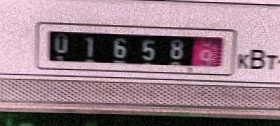0: (51, 32, 69, 53)
1: (81, 33, 96, 58)
5: (139, 37, 156, 61)
6: (110, 35, 129, 59)
8: (167, 37, 185, 60)
9: (196, 46, 212, 67)
screen: (32, 17, 239, 80)
